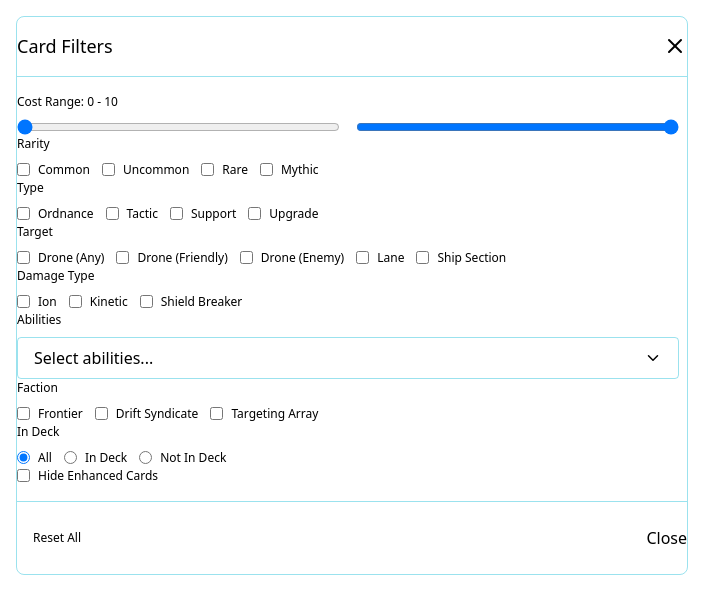
Test case: CardFilterModal › Abilities Filter › should show ability dropdown with all available abilities
Note: Click to open abilities dropdown - find by "Select abilities..." text
Step 1. Click the button "Select abilities..." → coordinates (94, 358), box [17,336,679,378]
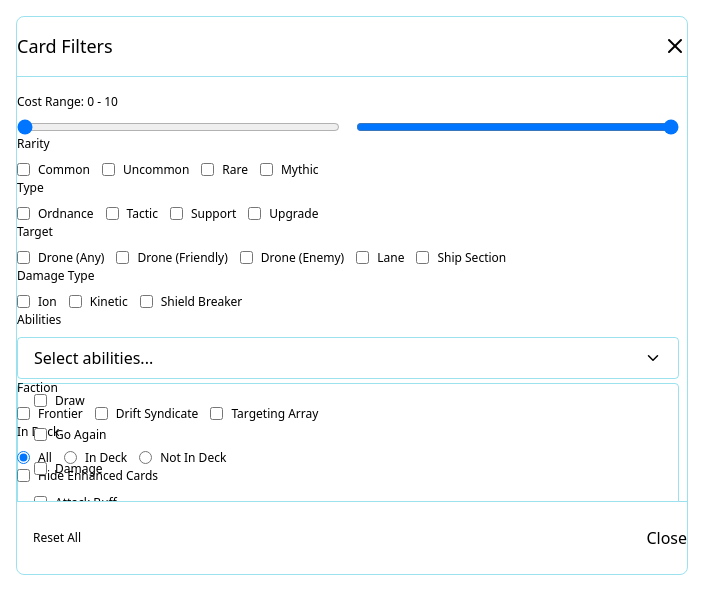
Now the text "Draw" is shown, box [55,392,85,410]
Now the text "Go Again" is shown, box [55,426,106,444]
